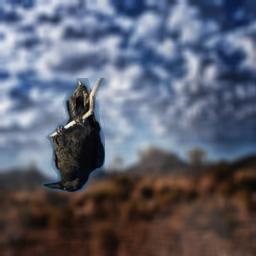Crow: (41, 78, 105, 192)
